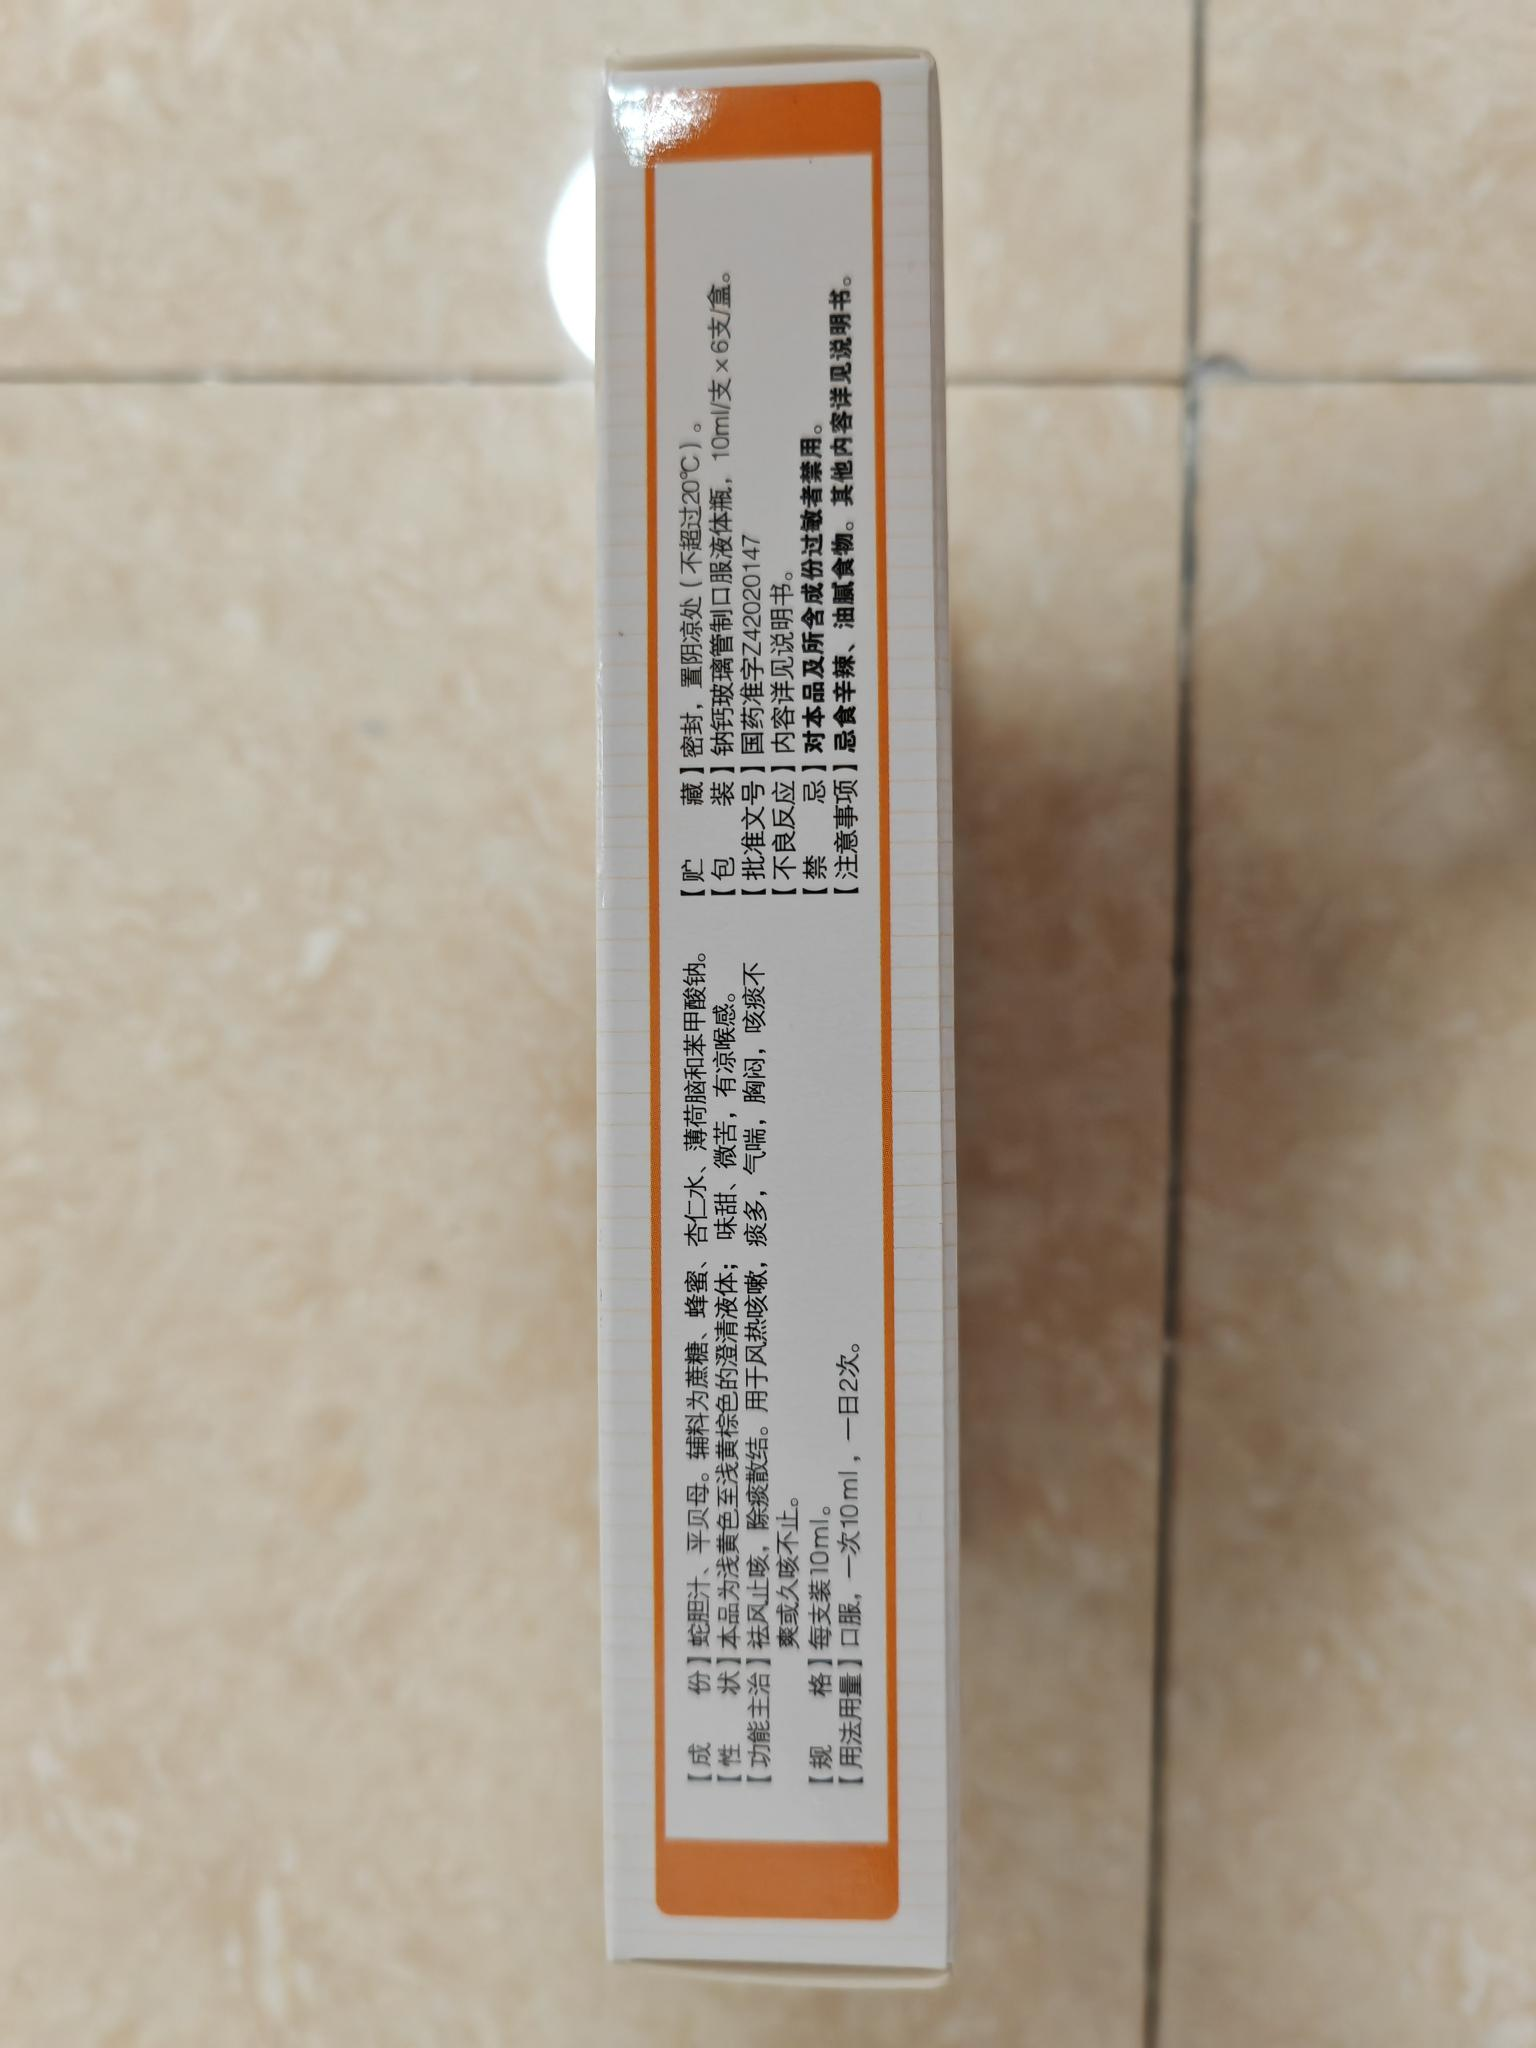Medicine5: (549, 32, 1000, 2027)
